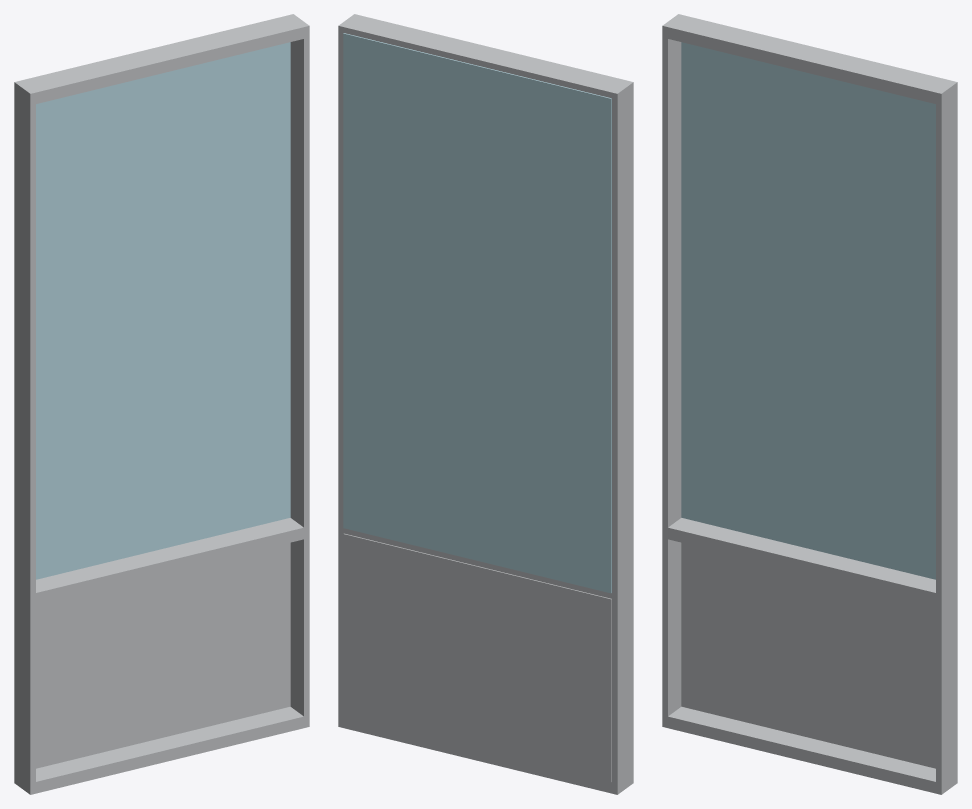
Rendered from opening.curtain_wall.h3600.glb.
The picture shows the model from 3 angles, left to right: view 1: azimuth 30°, elevation 25°; view 2: azimuth 150°, elevation 25°; view 3: azimuth 330°, elevation 25°; orthographic projection.
Parts seen in each view (by area): view 1: glazing__glass, frame__aluminium, glazing__aluminium; view 2: glazing__glass, glazing__aluminium, frame__aluminium; view 3: glazing__glass, frame__aluminium, glazing__aluminium.
Part boxes in pixels (box(x1,y1,x2,y2)): glazing__glass: box(36, 42, 290, 579); frame__aluminium: box(14, 14, 309, 794); glazing__aluminium: box(36, 542, 290, 768); glazing__glass: box(343, 33, 611, 593); glazing__aluminium: box(343, 533, 611, 782); frame__aluminium: box(338, 14, 633, 794); glazing__glass: box(681, 42, 935, 579); frame__aluminium: box(662, 14, 957, 794); glazing__aluminium: box(681, 542, 935, 768).
Size of the model in its own units: 1.5 by 3.6 by 0.156.
